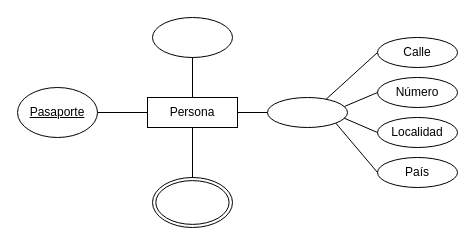
Image size: 475x245. Some labels were removed from this diagram. Each missing label, with the box of its shape:
Dirección: (266, 96, 348, 128)
Equipos: (155, 180, 229, 224)
Nombre: (152, 16, 232, 58)
